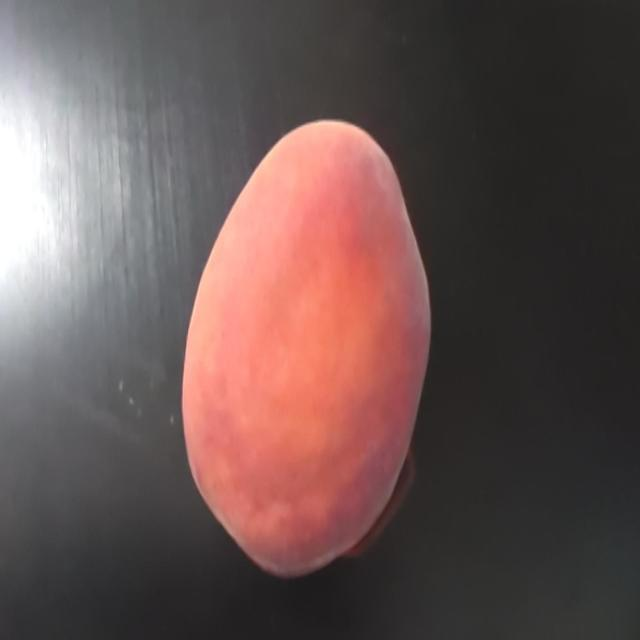Apel Gala: (163, 108, 449, 588)
